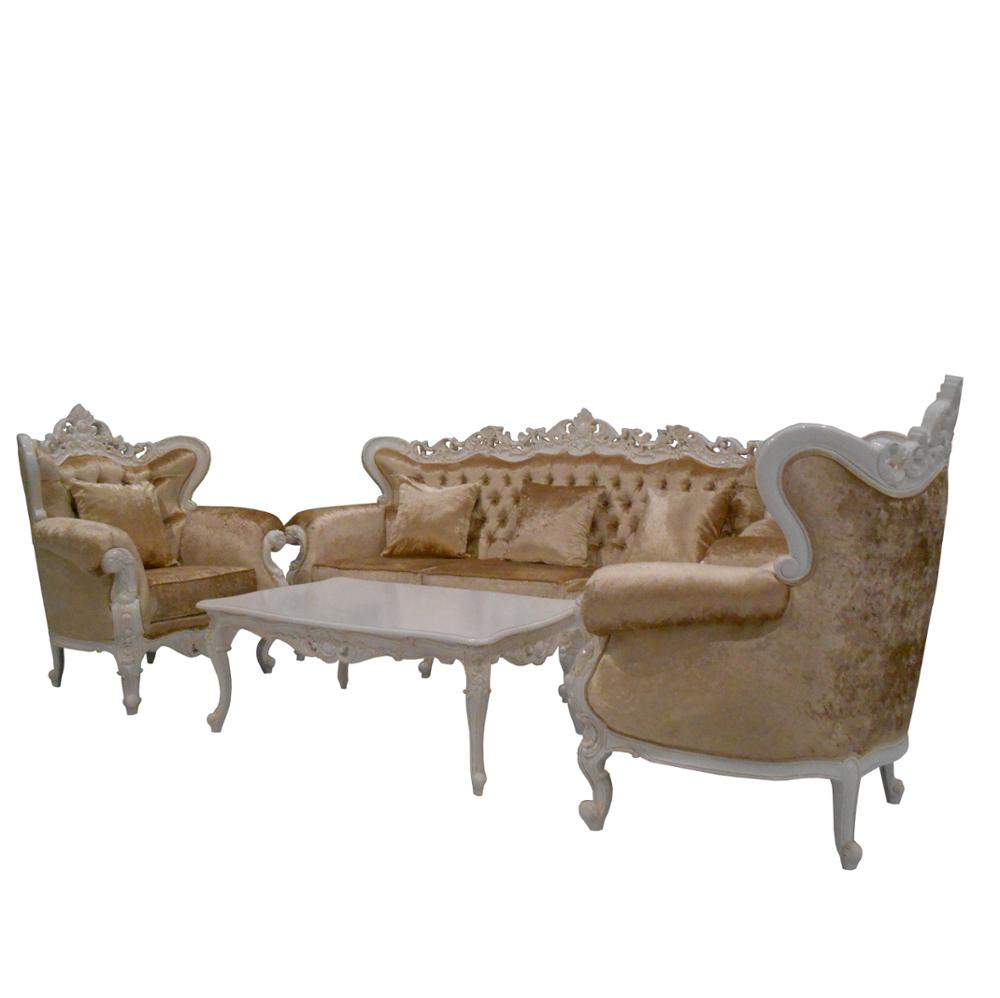kursi: (564, 374, 990, 885), (11, 388, 291, 761)
meja: (184, 547, 591, 818)
sova: (288, 395, 809, 603)
